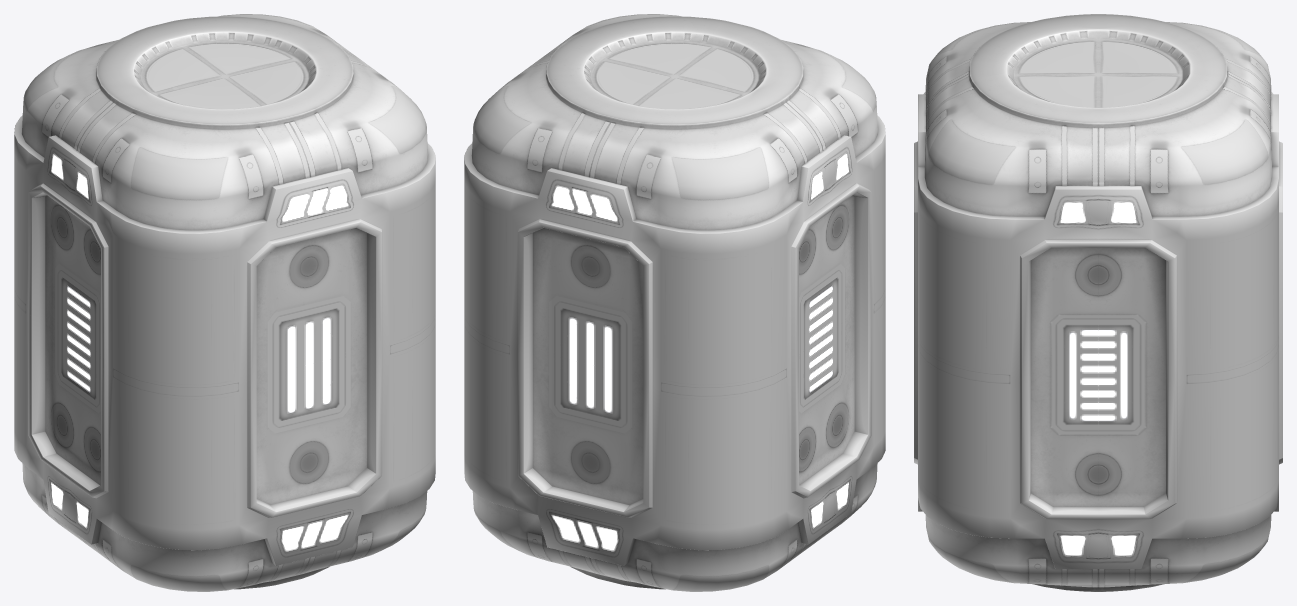
The model's file is Barrel03.FBX.
The picture shows the model from 3 angles, left to right: view 1: azimuth 30°, elevation 25°; view 2: azimuth 150°, elevation 25°; view 3: azimuth 270°, elevation 25°; orthographic projection.
Visible parts, largest first — view 1: Barrel03; view 2: Barrel03; view 3: Barrel03.
Boxes of the visible parts, x1,y1,x2,y2 form: Barrel03: (14,14,435,591); Barrel03: (464,14,885,591); Barrel03: (914,14,1282,591).
Size of what is drawn, in the model's own units: 0.762 by 1.07 by 0.7607.
